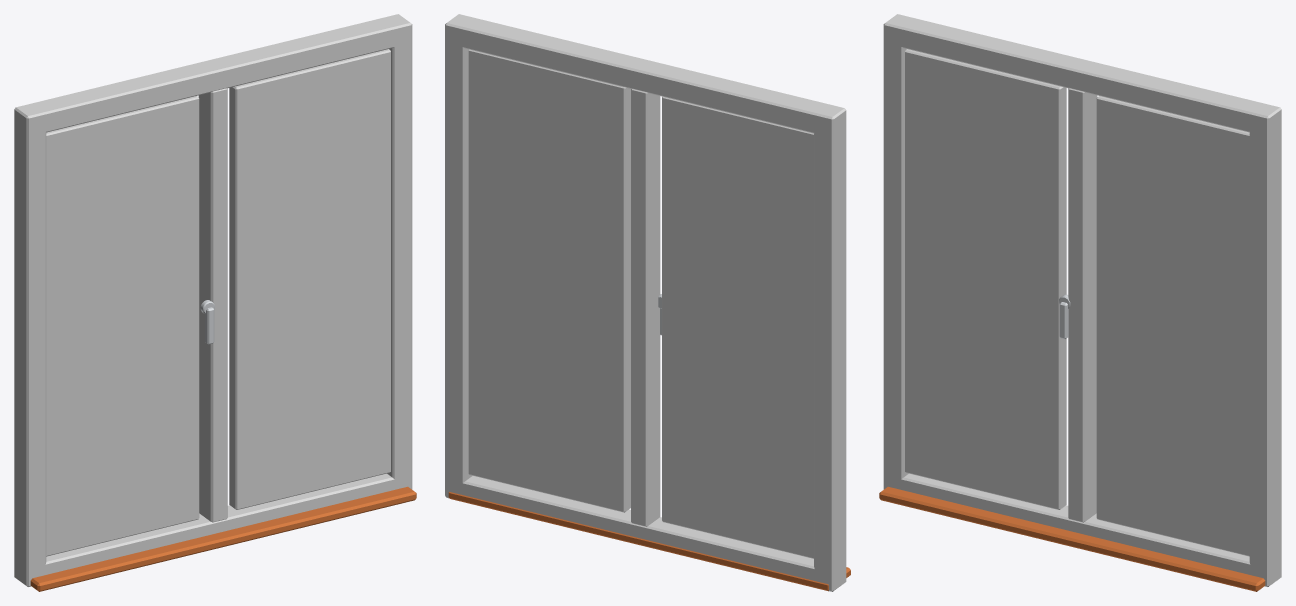
The model's file is window-1200x1400.glb.
3 views of the same model, side by side, from view 1: azimuth 30°, elevation 25°; view 2: azimuth 150°, elevation 25°; view 3: azimuth 330°, elevation 25° (orthographic).
Parts seen in each view (by area): view 1: window-1200x1400.tint, window-1200x1400.accent; view 2: window-1200x1400.tint, window-1200x1400.accent; view 3: window-1200x1400.tint, window-1200x1400.accent.
Boxes of the visible parts, x1,y1,x2,y2 form: window-1200x1400.tint: [14, 14, 412, 586]; window-1200x1400.accent: [30, 486, 416, 591]; window-1200x1400.tint: [445, 14, 846, 591]; window-1200x1400.accent: [448, 492, 850, 591]; window-1200x1400.tint: [883, 14, 1281, 586]; window-1200x1400.accent: [879, 486, 1265, 591].
Bounding box in the file's own units: 1.2 × 1.4 × 0.12.
